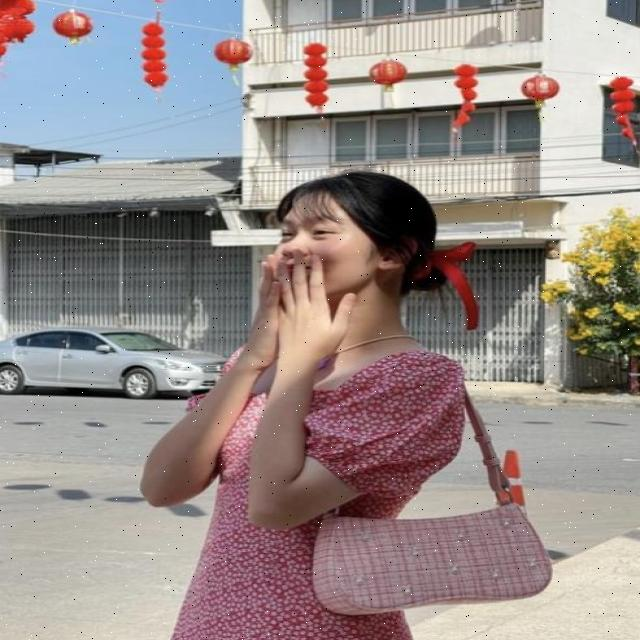handbag: (306, 504, 552, 614)
